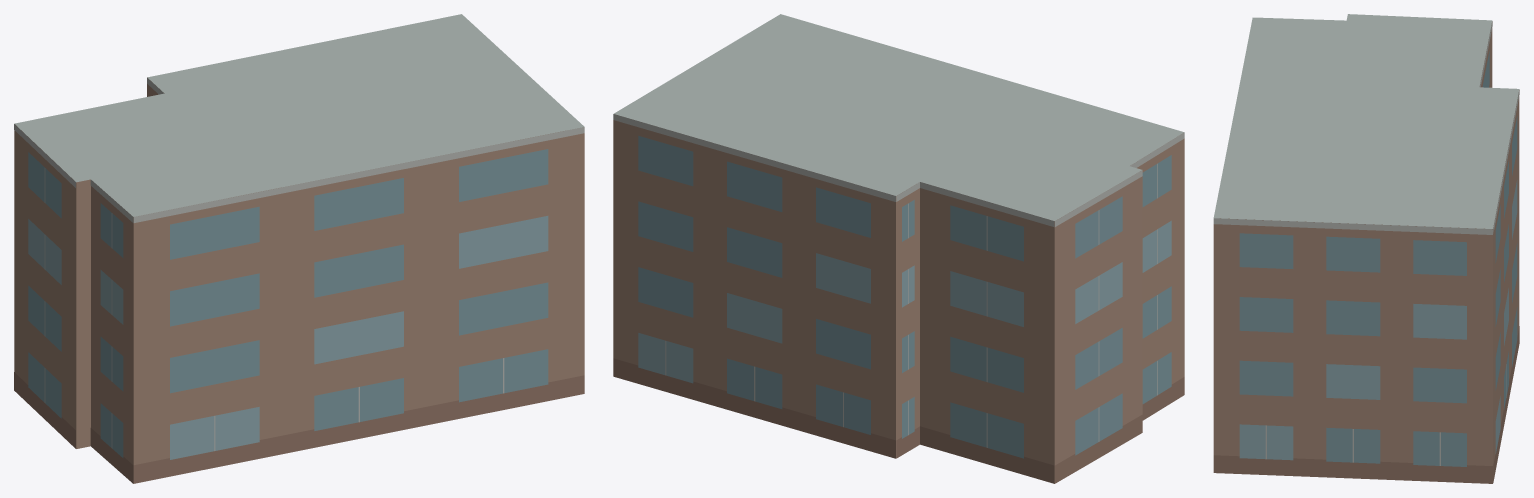
The model's file is survey-upis-32965348.glb.
3 renders of one model, left to right at view 1: azimuth 30°, elevation 25°; view 2: azimuth 150°, elevation 25°; view 3: azimuth 270°, elevation 25°, orthographic. The views are drawn at different scales.
Parts seen in each view (by area): view 1: survey-upis-32965348.tmp; view 2: survey-upis-32965348.tmp; view 3: survey-upis-32965348.tmp.
Boxes of the visible parts, x1,y1,x2,y2 form: survey-upis-32965348.tmp: [14, 14, 584, 483]; survey-upis-32965348.tmp: [613, 14, 1184, 483]; survey-upis-32965348.tmp: [1213, 14, 1519, 483].
Size of the model in its own units: 18.84 by 10.4 by 11.32.
